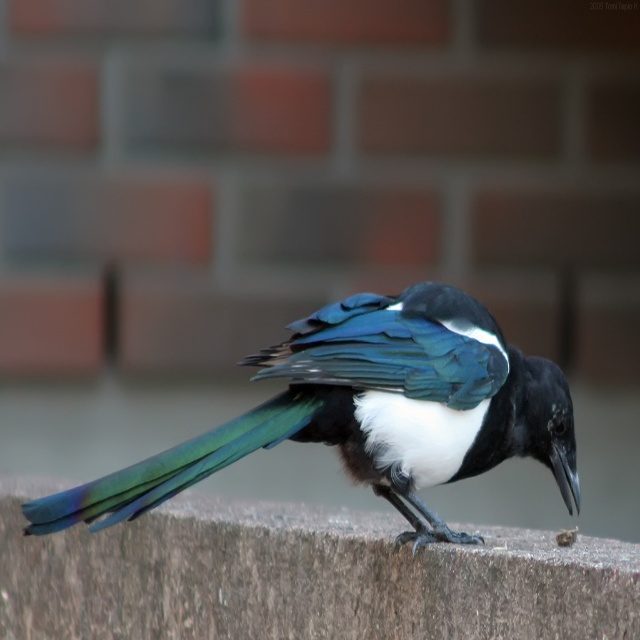Magpie: (20, 280, 581, 560)
